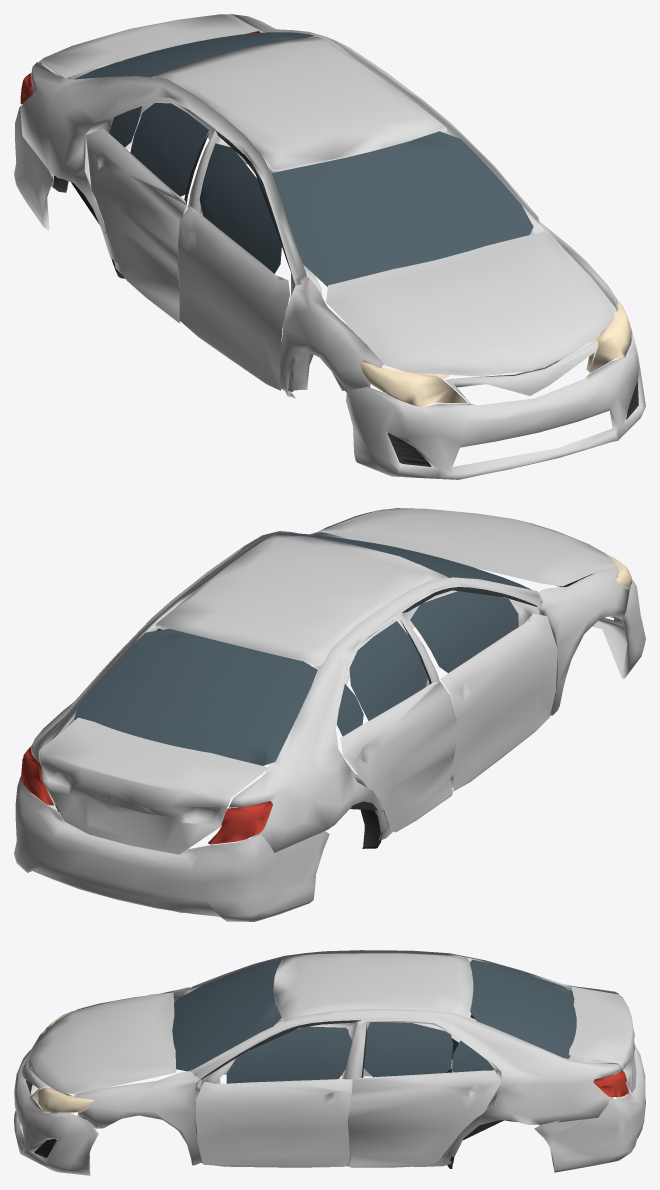
The model's file is toyota-camry-2012.glb.
3 renders of one model, top to bottom at view 1: azimuth 30°, elevation 25°; view 2: azimuth 150°, elevation 25°; view 3: azimuth 270°, elevation 25°, orthographic. The views are drawn at different scales.
Visible parts, largest first — view 1: toyota-camry-2012; view 2: toyota-camry-2012; view 3: toyota-camry-2012.
Boxes of the visible parts, x1,y1,x2,y2 form: toyota-camry-2012: (14,14,645,479); toyota-camry-2012: (14,508,645,921); toyota-camry-2012: (14,950,645,1175).
Bounding box in the file's own units: 1.83 × 1.26 × 4.81.
